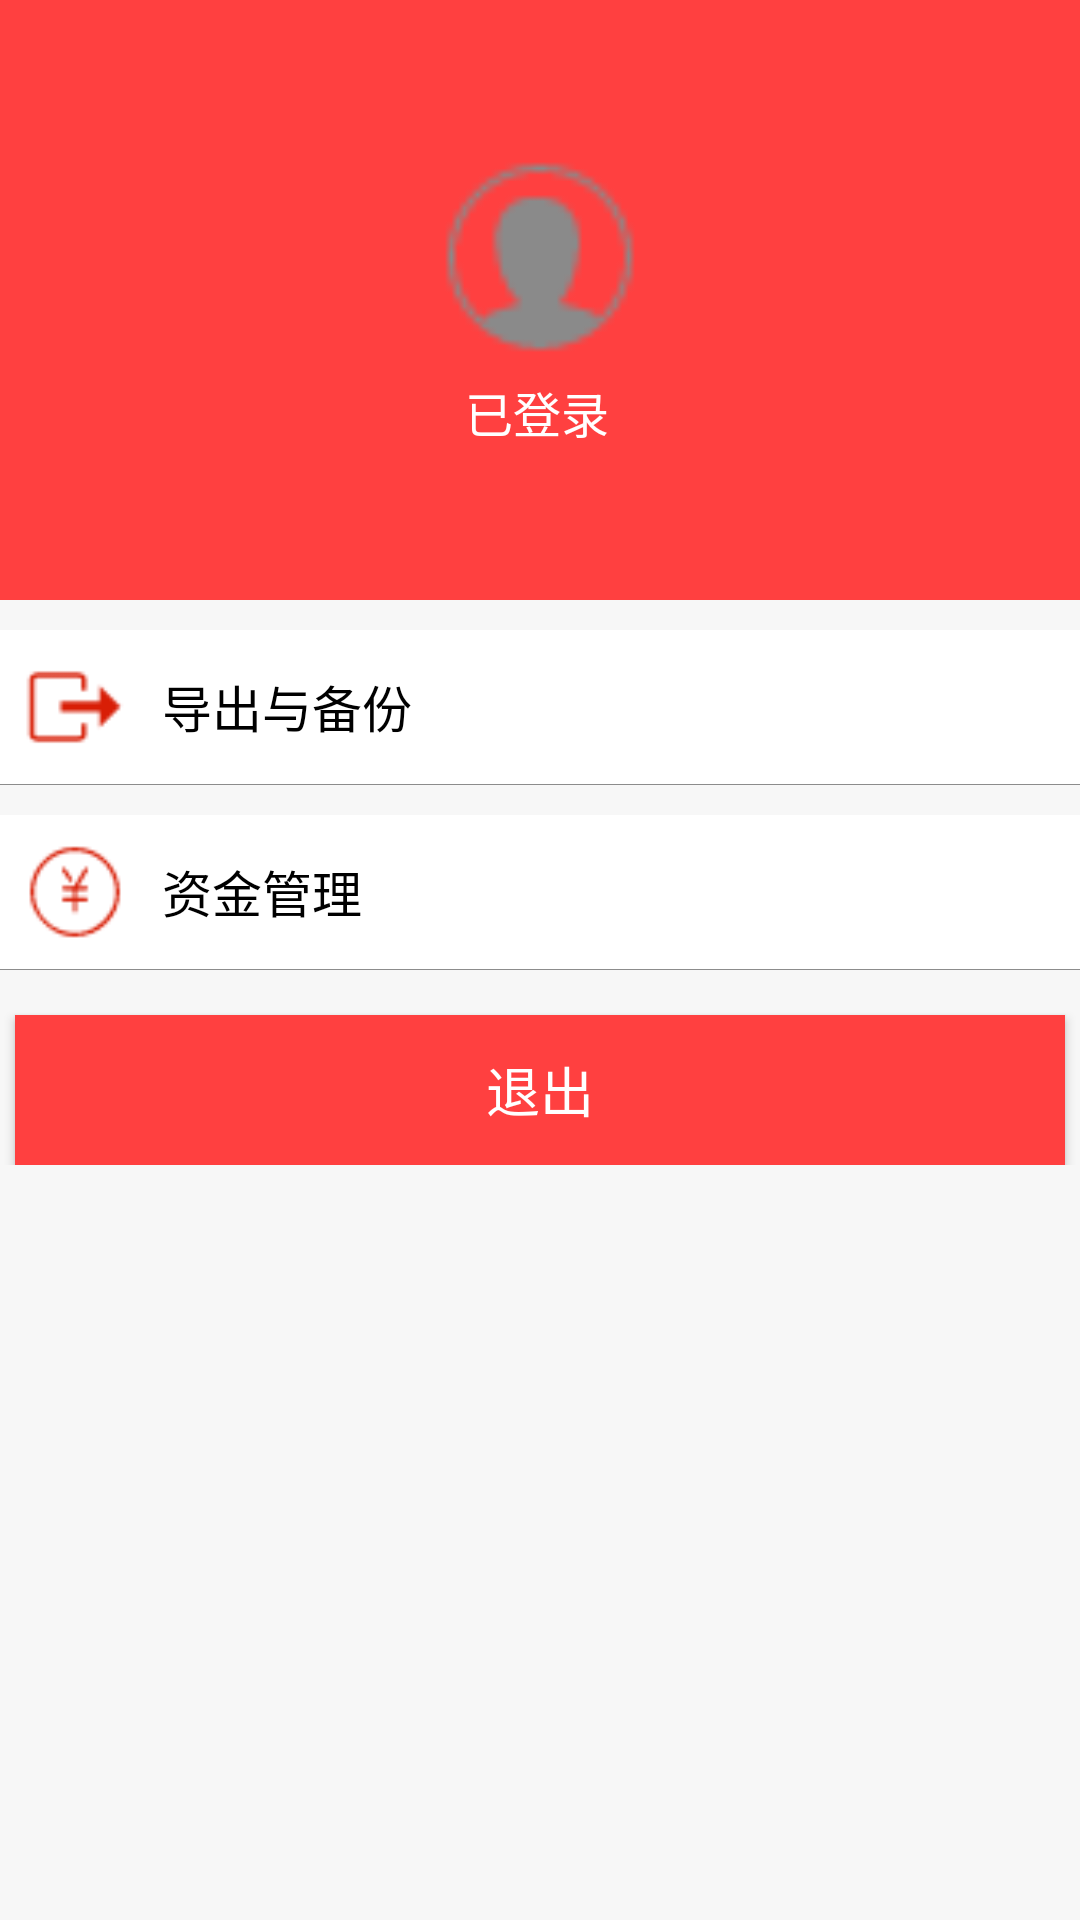

Locate icon controls on the screen. Image size 1080×1920, boxes as region(x1, y1, x2, y2).
account: region(446, 163, 634, 351)
daochu: region(27, 671, 121, 743)
